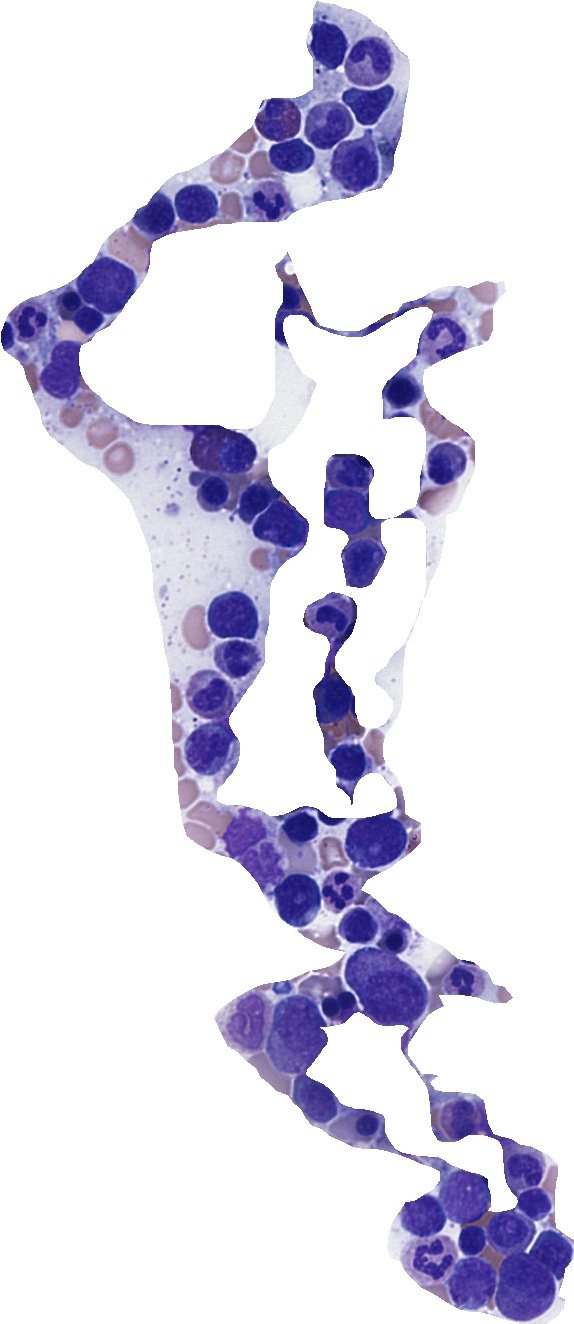objectness: (442, 954, 492, 1004), (407, 1233, 457, 1283), (308, 592, 358, 642), (313, 862, 363, 912), (246, 174, 296, 224), (424, 312, 474, 362), (2, 296, 52, 346), (334, 536, 384, 586), (185, 667, 235, 717), (330, 140, 380, 190), (425, 438, 475, 488), (482, 1207, 532, 1257), (252, 92, 302, 142), (200, 427, 250, 477), (432, 1093, 482, 1143), (345, 37, 395, 87), (498, 1141, 548, 1191), (321, 448, 371, 498), (210, 633, 260, 683), (301, 98, 351, 148), (447, 1259, 497, 1309), (321, 484, 371, 534), (273, 873, 323, 923), (80, 258, 130, 308), (349, 815, 399, 865), (438, 1171, 488, 1221), (254, 497, 304, 547), (445, 1217, 495, 1267), (304, 19, 354, 69), (332, 899, 382, 949), (236, 837, 286, 887), (213, 804, 263, 854), (275, 801, 325, 851), (326, 735, 376, 785), (508, 1176, 558, 1226), (362, 1018, 412, 1068), (374, 1060, 424, 1110), (39, 330, 89, 380), (383, 1101, 433, 1151), (32, 354, 82, 404), (226, 1000, 276, 1050), (332, 1055, 382, 1105), (309, 672, 359, 722), (184, 722, 234, 772), (304, 1036, 354, 1086), (325, 1009, 375, 1059), (396, 1190, 446, 1240), (128, 189, 178, 239), (377, 365, 427, 415), (62, 293, 112, 343), (167, 176, 217, 226), (45, 278, 95, 328), (230, 473, 280, 523), (303, 980, 353, 1030), (204, 589, 254, 639), (321, 973, 371, 1023), (188, 466, 238, 516), (370, 915, 420, 965), (341, 80, 391, 130), (334, 1101, 384, 1151), (270, 1007, 320, 1057), (359, 960, 409, 1010), (499, 1260, 549, 1310)
